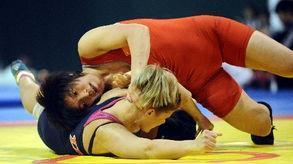Fall-Detected: (6, 4, 223, 158)
